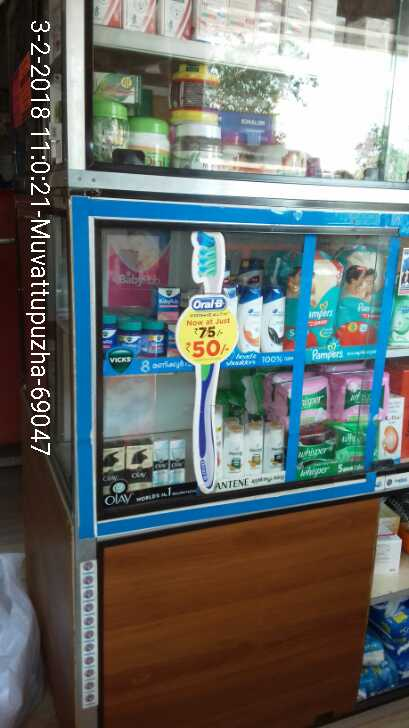vicks: (98, 281, 187, 367)
